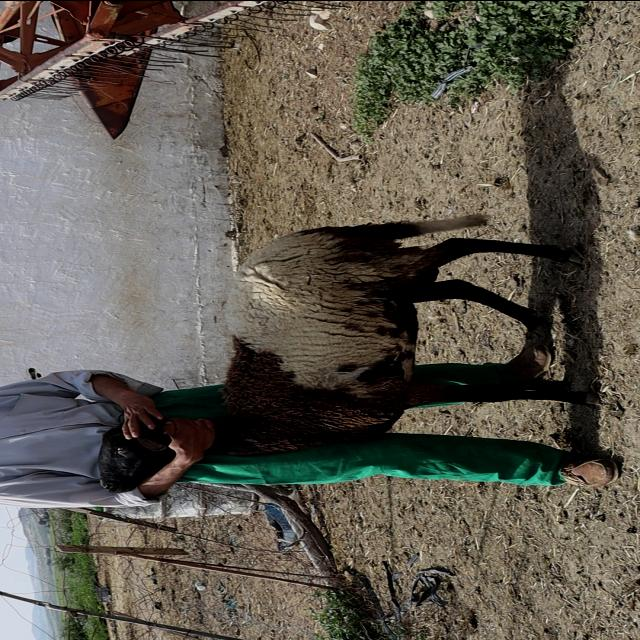Score_2: (210, 214, 599, 459)
